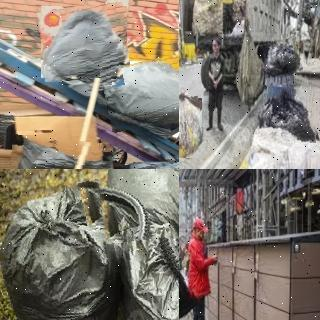Garbage: (0, 184, 129, 320), (39, 4, 129, 81), (114, 218, 179, 320), (95, 169, 179, 241), (102, 53, 179, 128), (255, 86, 320, 141), (5, 136, 111, 169), (261, 39, 302, 77), (179, 97, 203, 158)
